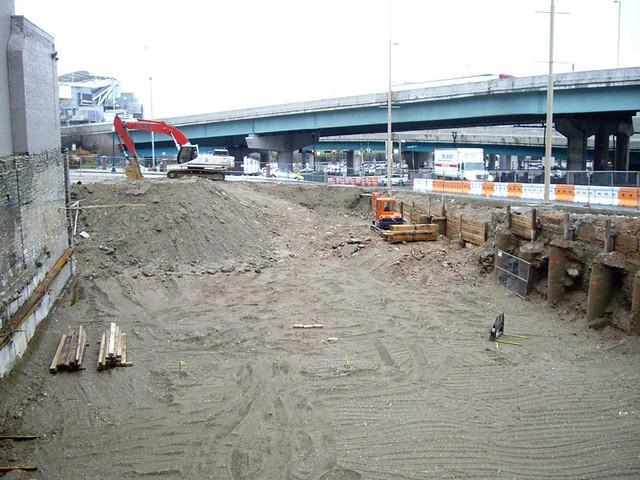EXCAVATORS: (112, 112, 236, 184)
